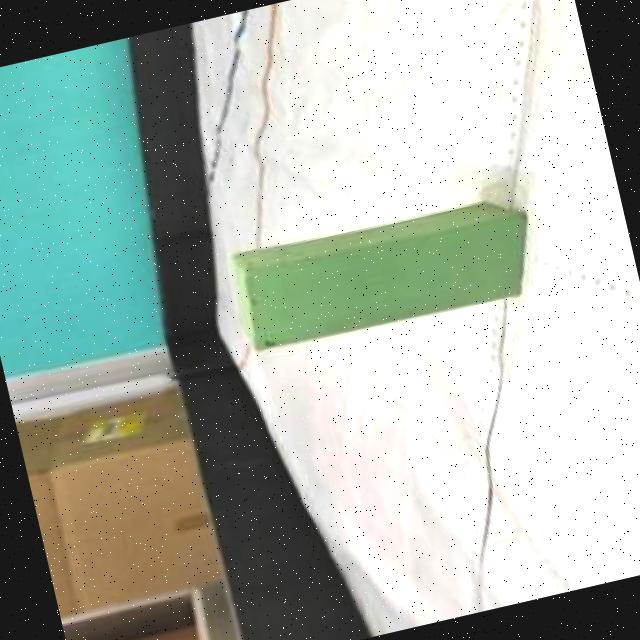greenbox: (221, 182, 547, 356)
